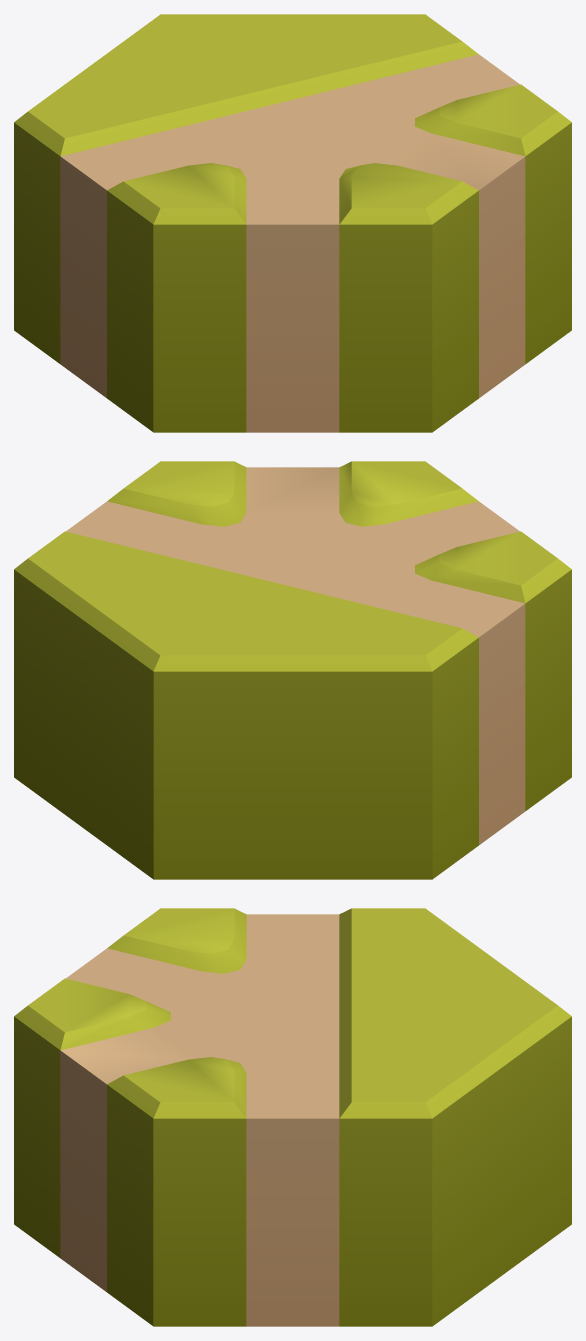
File: hex_road_J.glb
The picture shows the model from 3 angles, top to bottom: view 1: azimuth 30°, elevation 25°; view 2: azimuth 150°, elevation 25°; view 3: azimuth 270°, elevation 25°; orthographic projection.
Visible parts, largest first — view 1: hex_road_J; view 2: hex_road_J; view 3: hex_road_J.
Boxes of the visible parts, x1=… form: hex_road_J: x1=14, y1=14, x2=571, y2=432; hex_road_J: x1=14, y1=461, x2=571, y2=879; hex_road_J: x1=14, y1=908, x2=571, y2=1326.
Bounding box in the file's own units: 2 × 1 × 2.31.
1 material, 1 textured.
